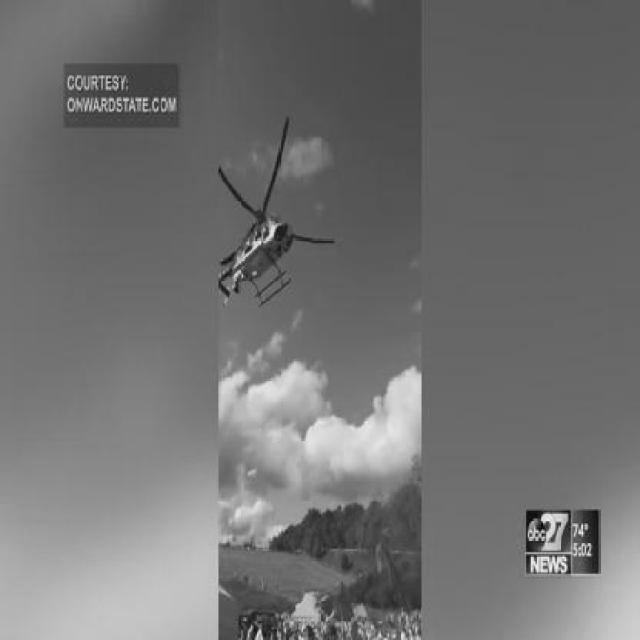helikopter: (212, 100, 337, 318)
